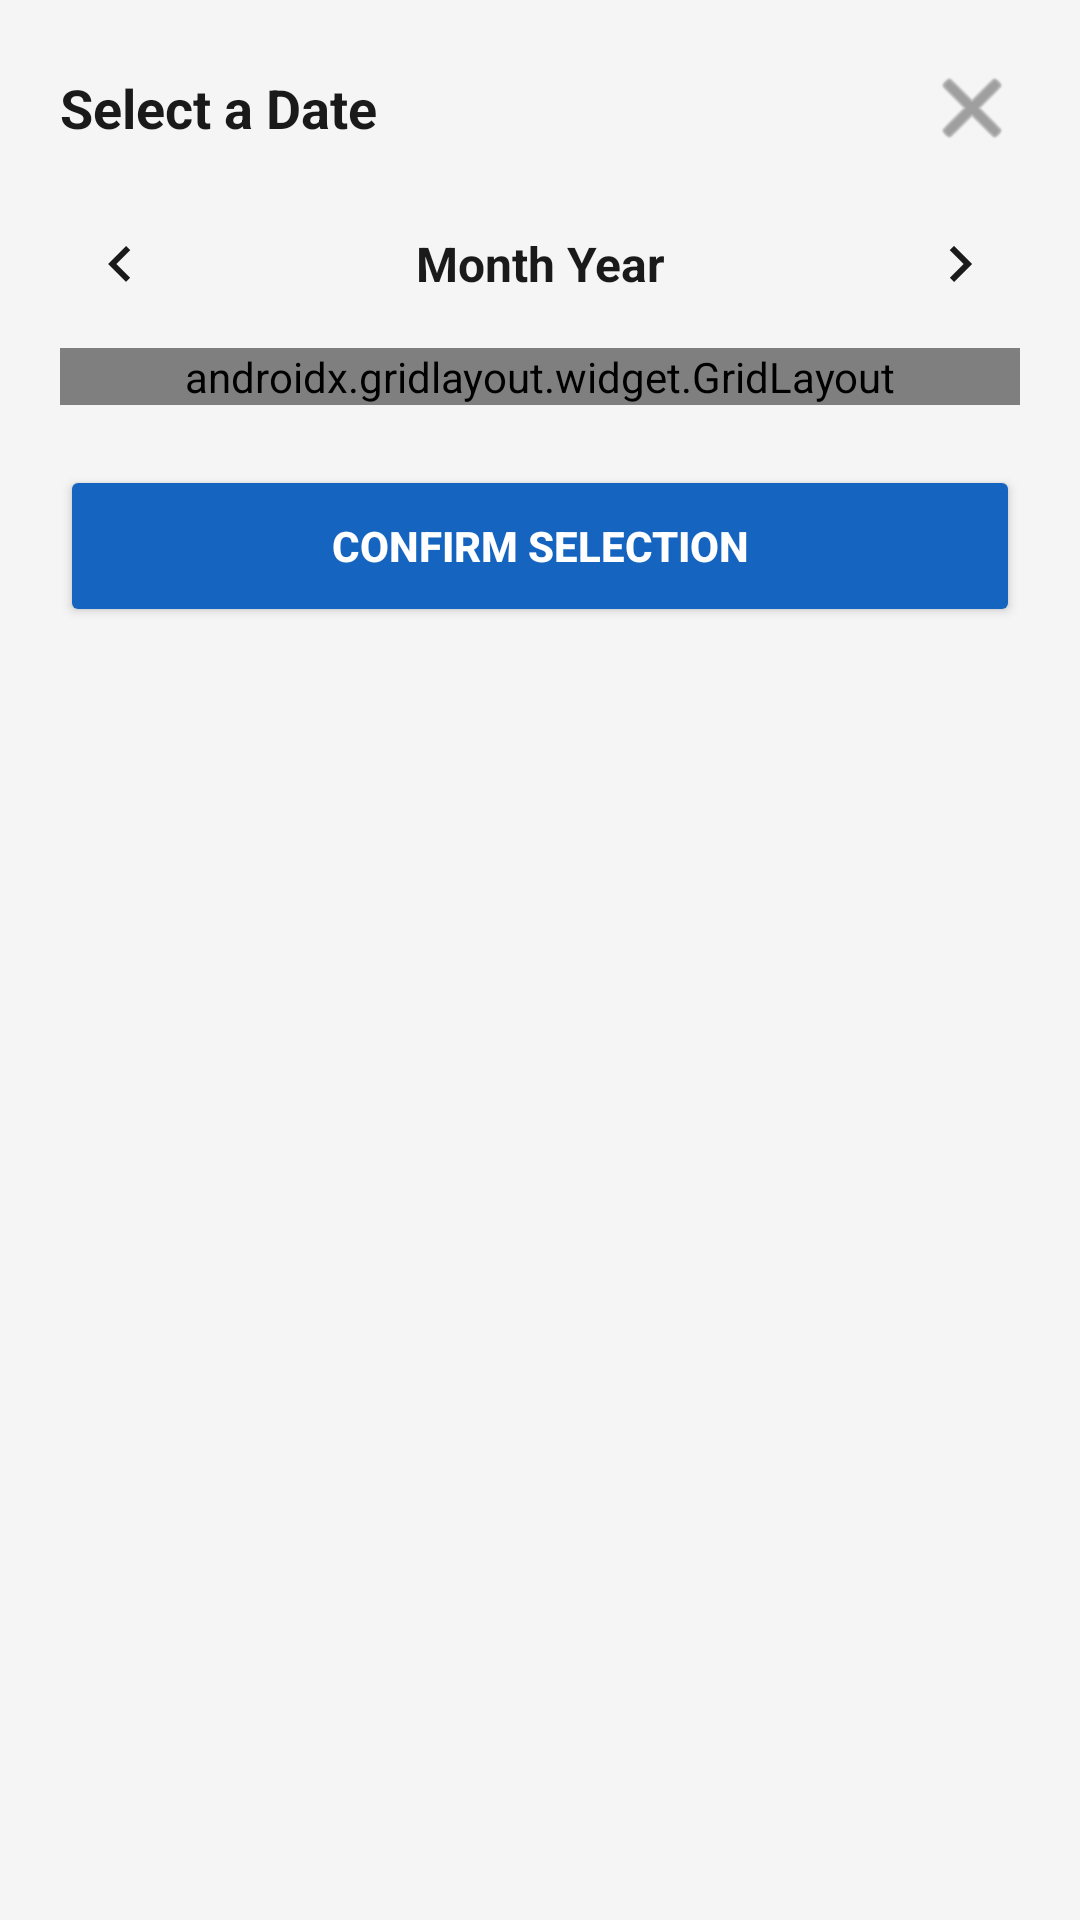

Screen size 1080 × 1920. Icon name, then its center in pixels as (x,y):
chevron left: (119,264)
chevron right: (961,264)
close clear cancel: (972,108)
